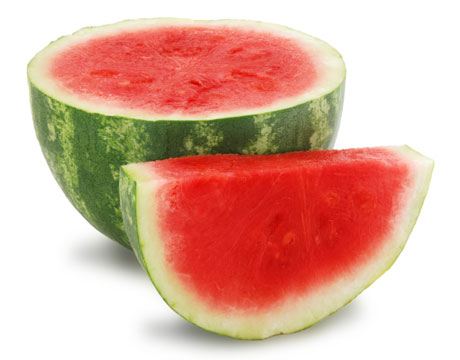watermelon: (36, 8, 339, 214), (126, 150, 426, 322)
